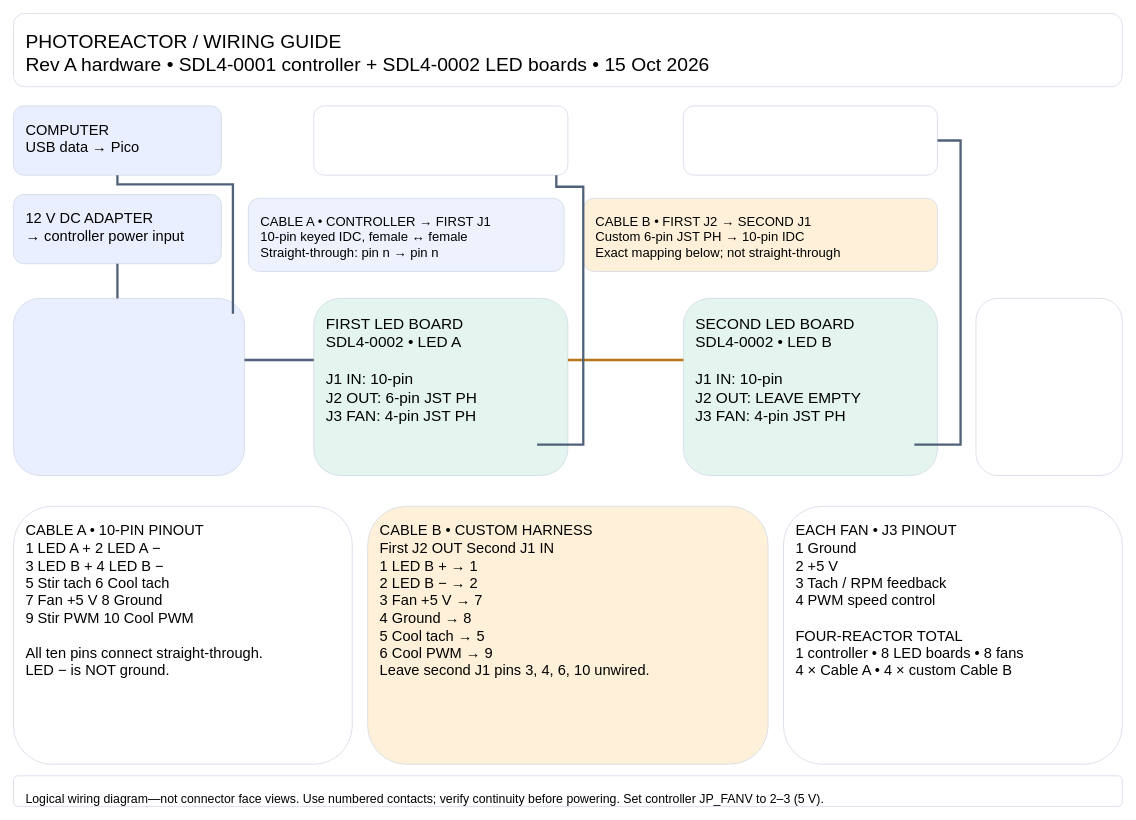
Image size: 1136x820. Some labels were removed from this diagram. Each missing label, with the box of its shape:
CONTROLLER SDL4-0001 REACTOR 1 → shown here REACTOR 2–4: repeat: (13, 298, 244, 475)
COOLING FAN 4 wires • 5 V / GND / tach / PWM: (683, 105, 937, 175)
FAN LEADS J3 → fan PHR-4 plug 2.0 mm pitch Terminate existing fan wires: (975, 298, 1122, 475)
STIRRING FAN 4 wires • 5 V / GND / tach / PWM: (313, 105, 568, 175)
